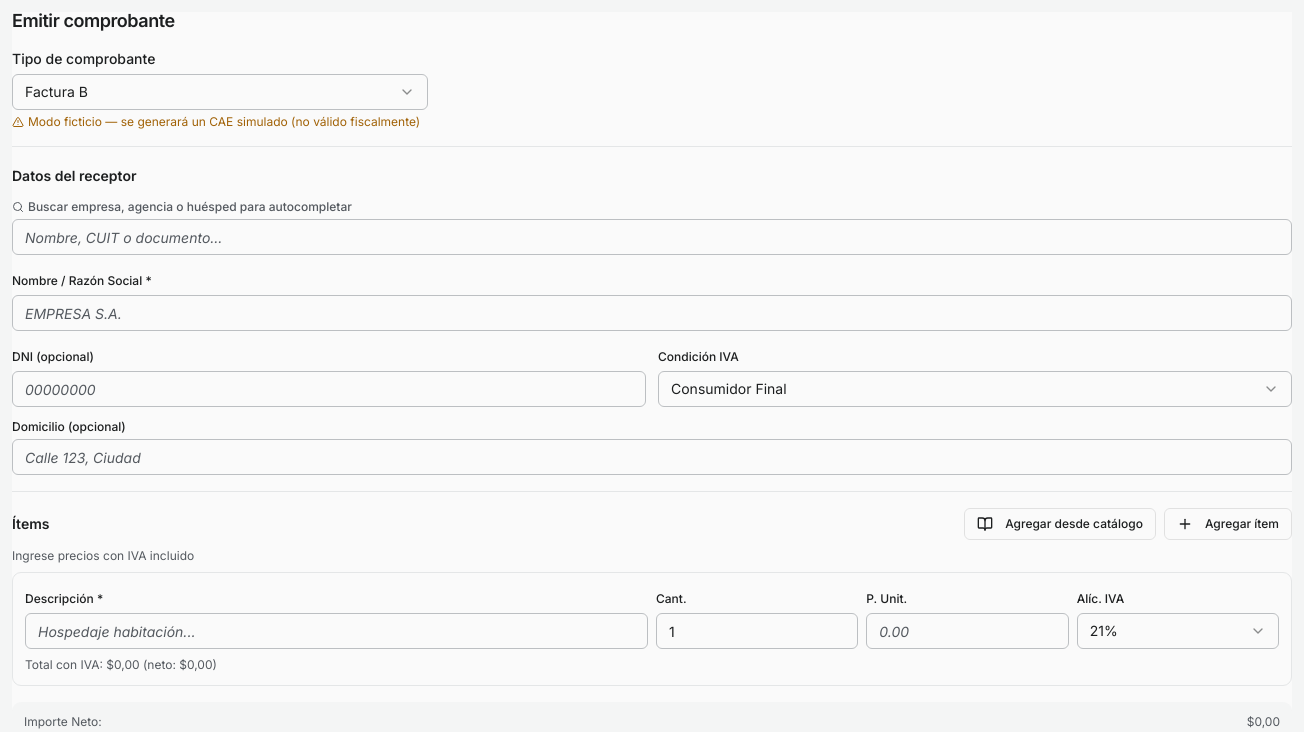
EmitirFacturaDialog — Condición IVA al elegir empresa/agencia del buscador › una agencia Monotributo autocompleta "Monotributista"
This screenshot has width=1304, height=732.
Type "Agencia Mono" into the field with test id "input-entity-search". click: (652, 237)
box: [12,219,1292,255]
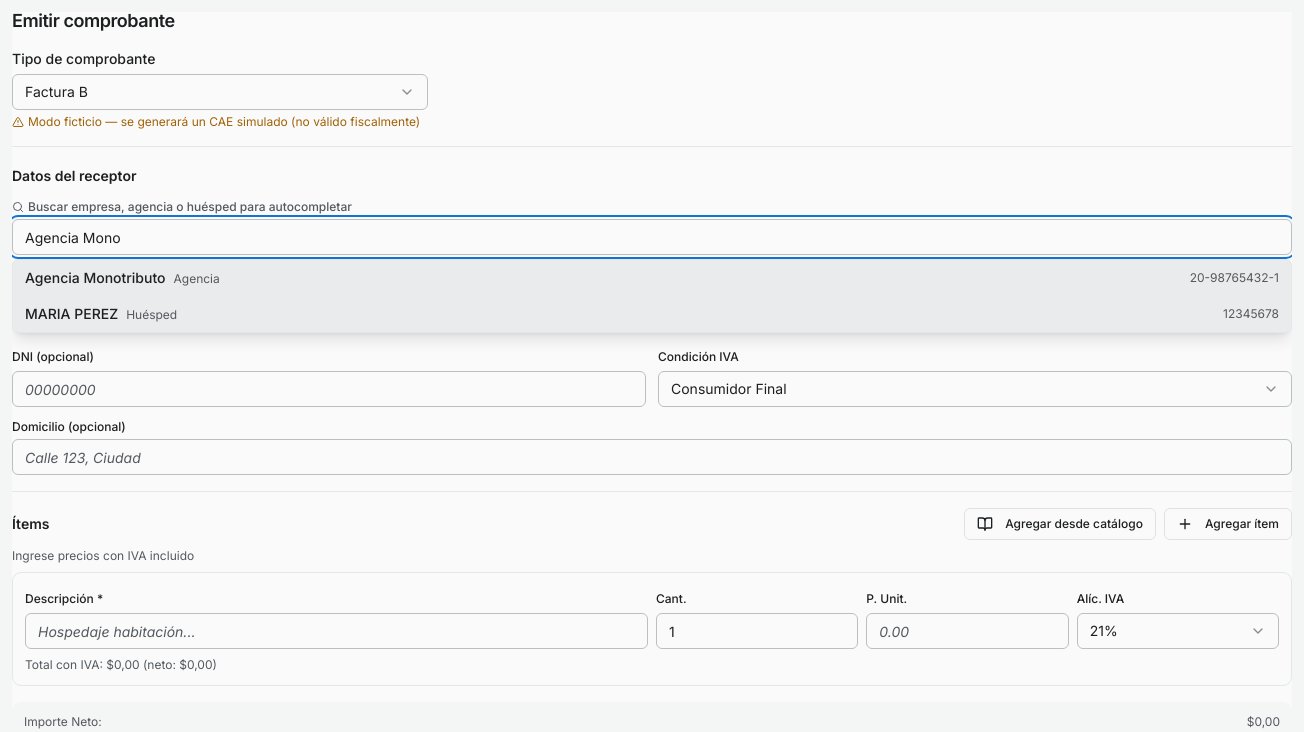
Click the text "Agencia Monotributo". click: click(95, 278)
box: [25,269,166,286]
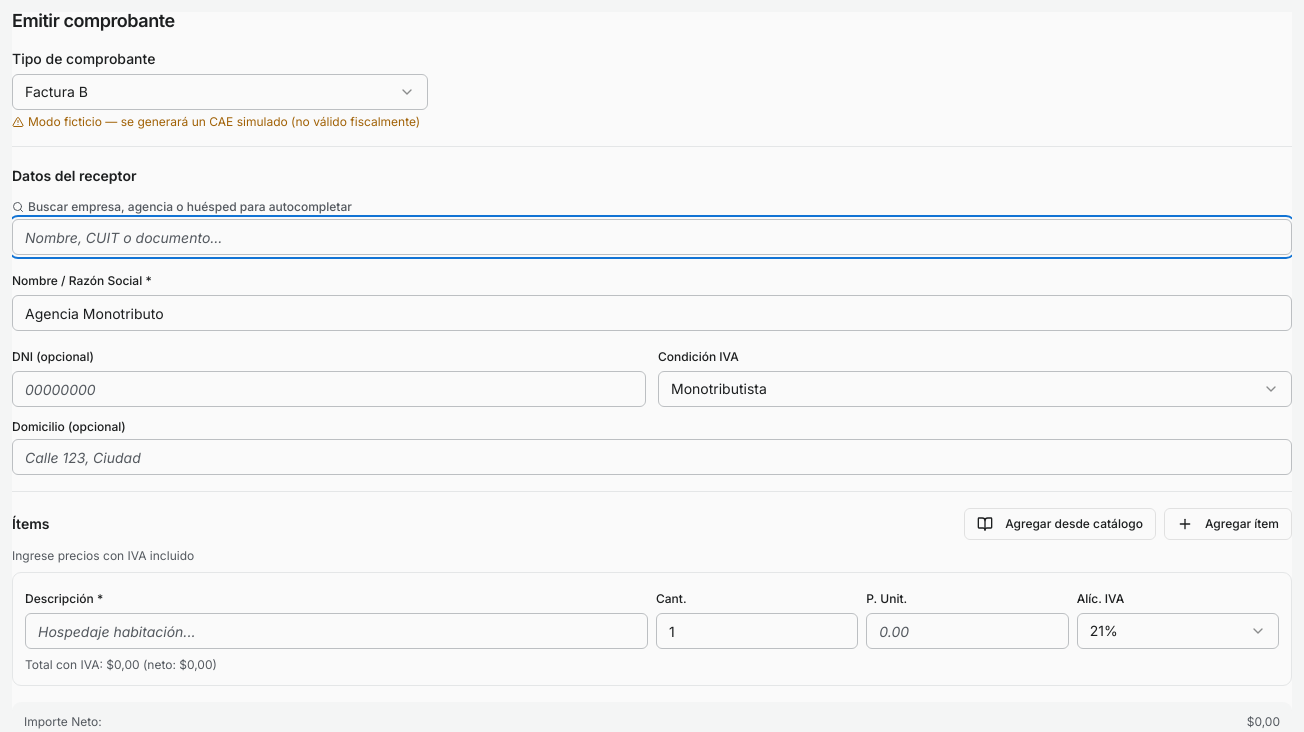
Now the dropdown with test id "select-condicion-iva" reads "Monotributista", box [658,371,1292,407]
